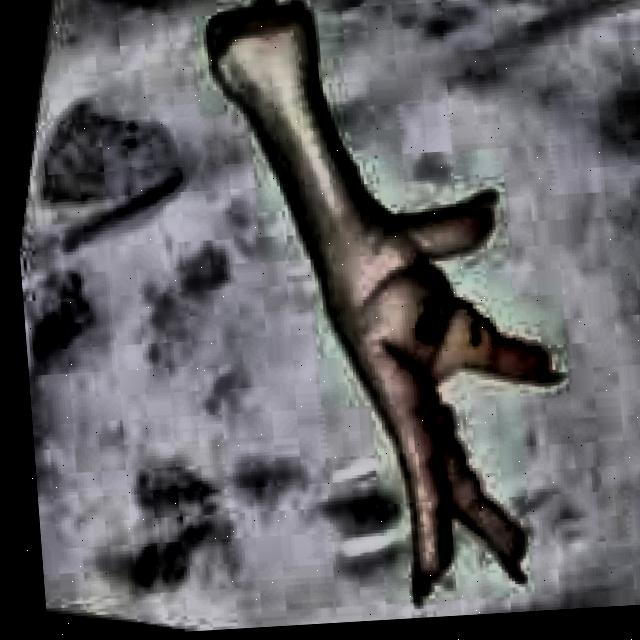Bumble foot: (200, 0, 573, 615)
